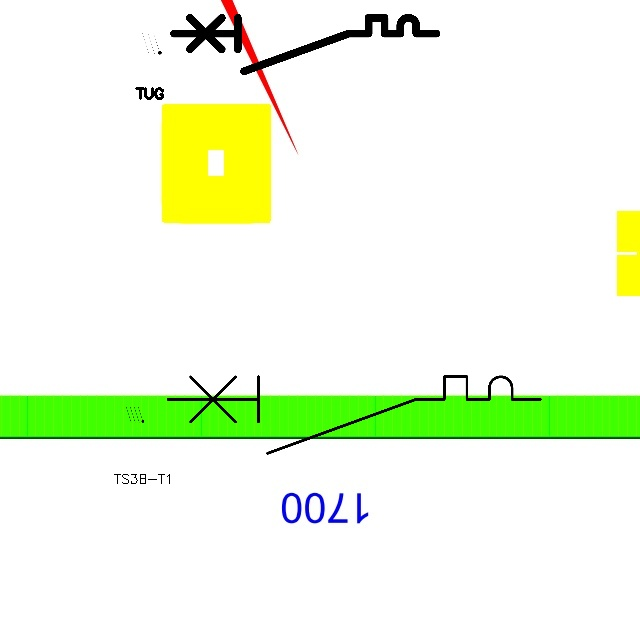interruptor_termomagnetico: (158, 367, 550, 463), (167, 11, 443, 78)
